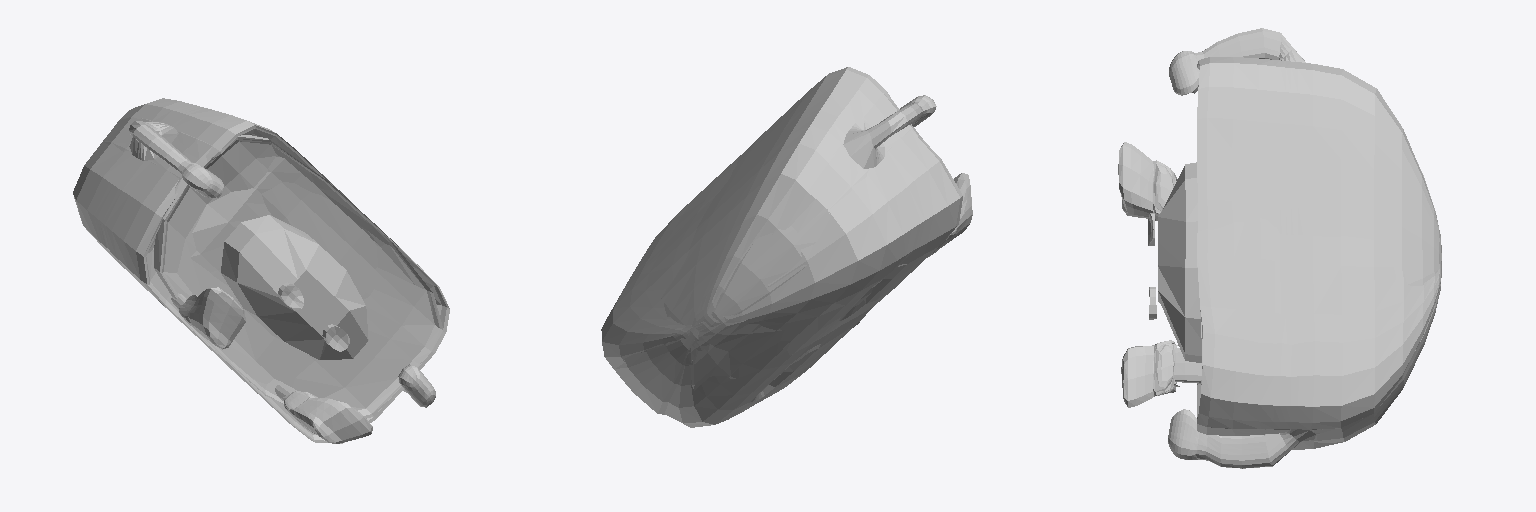
Rendered from Pal_000010.obj.
The picture shows the model from 3 angles: view 1: azimuth 30°, elevation 25°; view 2: azimuth 150°, elevation 25°; view 3: azimuth 270°, elevation 25°; orthographic projection.
Parts seen in each view (by area): view 1: Cuerpo_de_aguacate_3.001_Cube.002, Hueso_Cubo.003, Ojos_Cubo.002; view 2: Cuerpo_de_aguacate_3.001_Cube.002; view 3: Cuerpo_de_aguacate_3.001_Cube.002, Hueso_Cubo.003.
Boxes of the visible parts, <box> form: Cuerpo_de_aguacate_3.001_Cube.002: <box>73,98,449,443</box>; Hueso_Cubo.003: <box>221,215,368,359</box>; Ojos_Cubo.002: <box>278,282,349,351</box>; Cuerpo_de_aguacate_3.001_Cube.002: <box>601,67,972,427</box>; Cuerpo_de_aguacate_3.001_Cube.002: <box>1118,28,1441,468</box>; Hueso_Cubo.003: <box>1158,162,1201,362</box>.
Size of the model in its own units: 1.12 by 1.18 by 1.01.